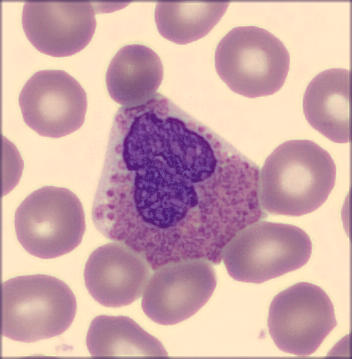EO: (91, 95, 269, 270)
RBC: (255, 137, 337, 219), (222, 220, 312, 283), (213, 25, 289, 99), (264, 281, 337, 358), (15, 187, 88, 258), (17, 67, 90, 138), (1, 274, 78, 341), (141, 262, 218, 325), (19, 1, 98, 56), (84, 242, 149, 307), (299, 68, 351, 145), (104, 43, 165, 107), (86, 313, 170, 359), (153, 1, 229, 46), (1, 135, 25, 199)
